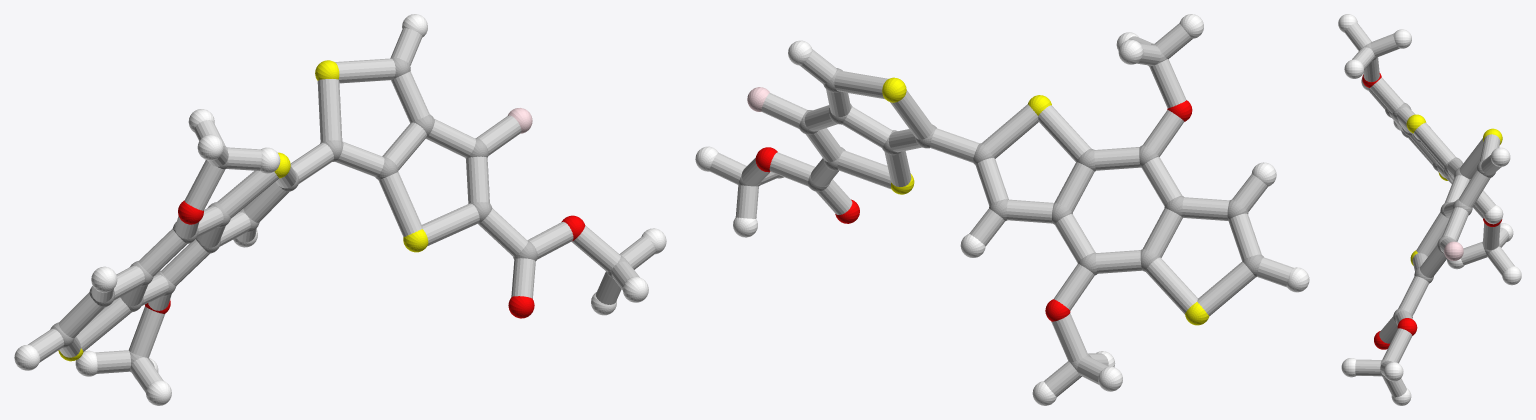
File: Dimethoxy_Benzodithiophene_Phi_5_Theta_110_Methylcarbonyl_3_Fluoro_Thienothiophene.glb
3 views of the same model, side by side, from view 1: azimuth 30°, elevation 25°; view 2: azimuth 150°, elevation 25°; view 3: azimuth 270°, elevation 25° (orthographic). The views are drawn at different scales.
Parts seen in each view (by area): view 1: grp15205, grp8689, grp1, grp13395, grp7241; view 2: grp15205, grp8689, grp1, grp7241, grp13395; view 3: grp15205, grp8689, grp1, grp13395, grp7241, grp14843.
Part boxes in pixels (x1,y1,x2,y2): grp15205: (28,28,655,392); grp8689: (14,14,666,405); grp1: (50,57,629,371); grp13395: (145,200,585,318); grp7241: (58,60,428,361); grp15205: (709,23,1293,396); grp8689: (695,14,1309,405); grp1: (738,43,1263,371); grp7241: (882,77,1209,325); grp13395: (755,100,1192,321); grp15205: (1344,22,1514,397); grp8689: (1338,14,1521,405); grp1: (1363,42,1500,377); grp13395: (1362,73,1502,349); grp7241: (1406,114,1502,265); grp14843: (1444,241,1463,260).
Size of the model in its own units: 17.01 by 8.52 by 5.59.
